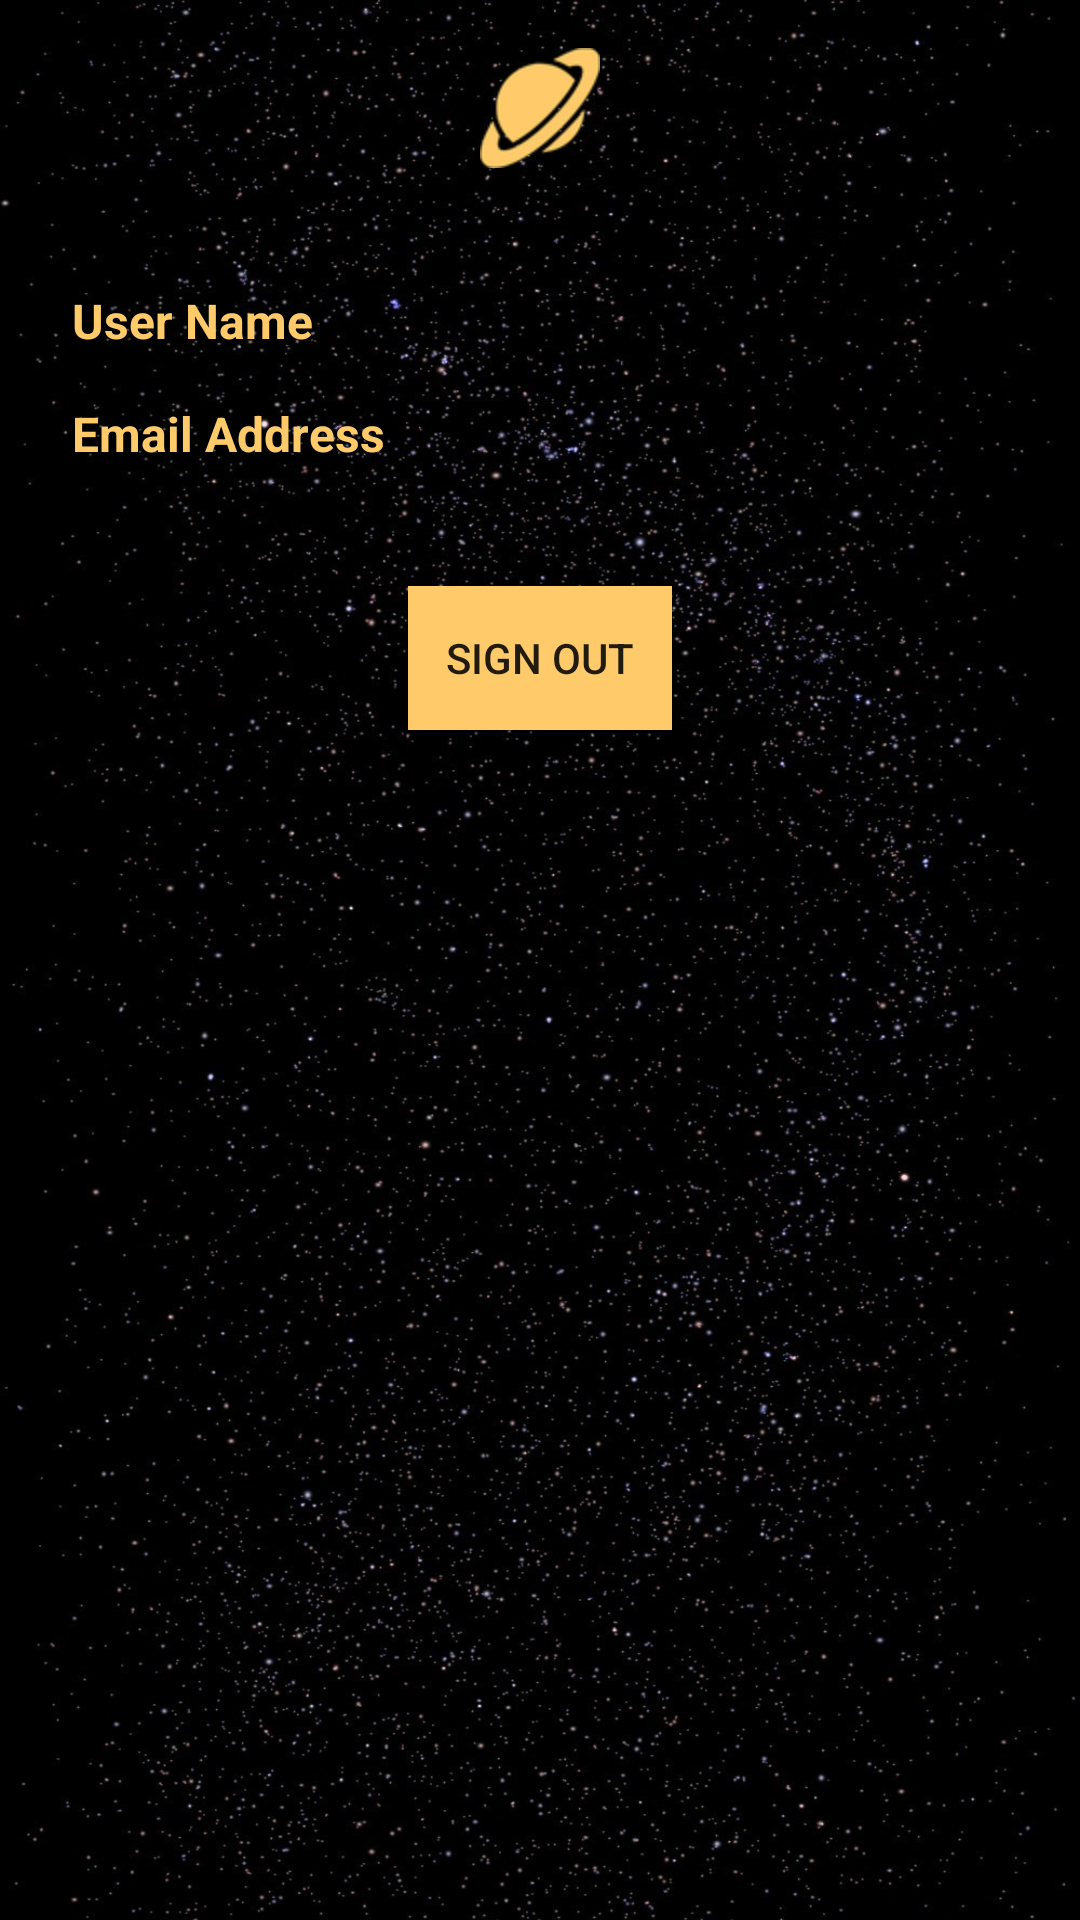

Where to tap for icons on this 1080×1920 app screen, as [x,y]:
all screen app icon: [540,108]
